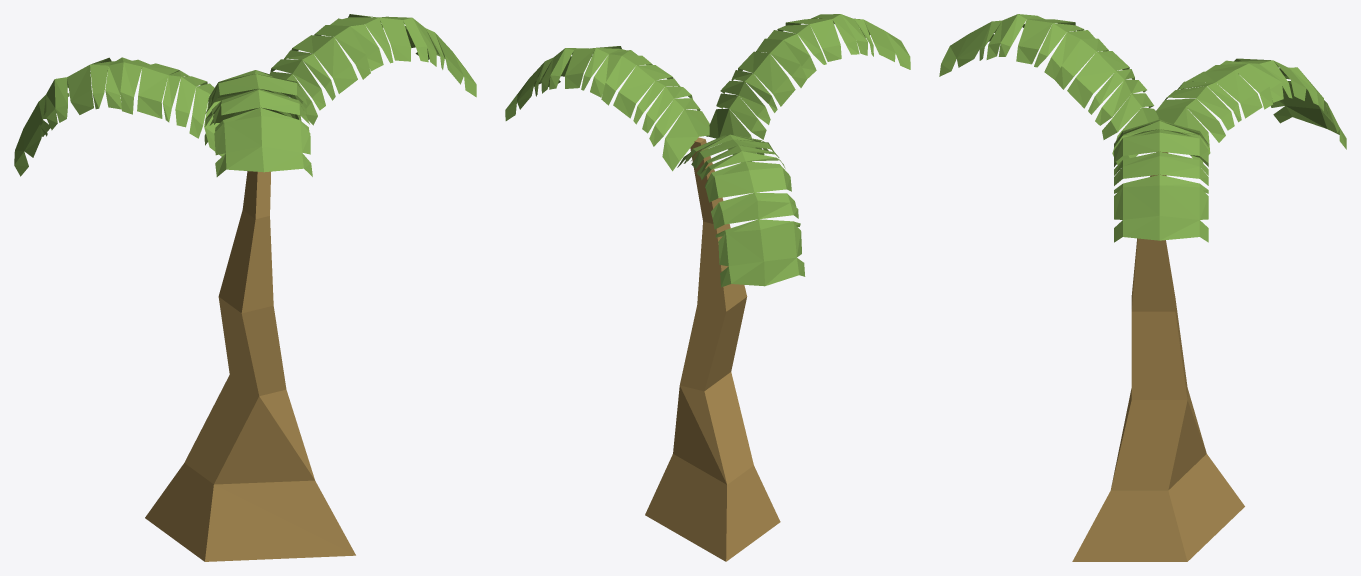
The model's file is obj_banana_tree_6_0.obj.
3 views of the same model, side by side, from view 1: azimuth 30°, elevation 25°; view 2: azimuth 150°, elevation 25°; view 3: azimuth 270°, elevation 25° (orthographic). The views are drawn at different scales.
Size of the model in its own units: 1.86 by 2.41 by 1.82.
